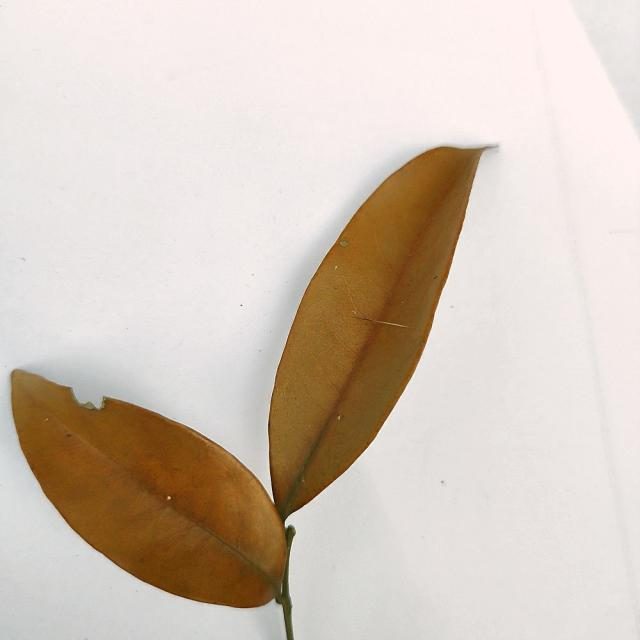Dry_Leaf-Lychee: (15, 147, 485, 621)
